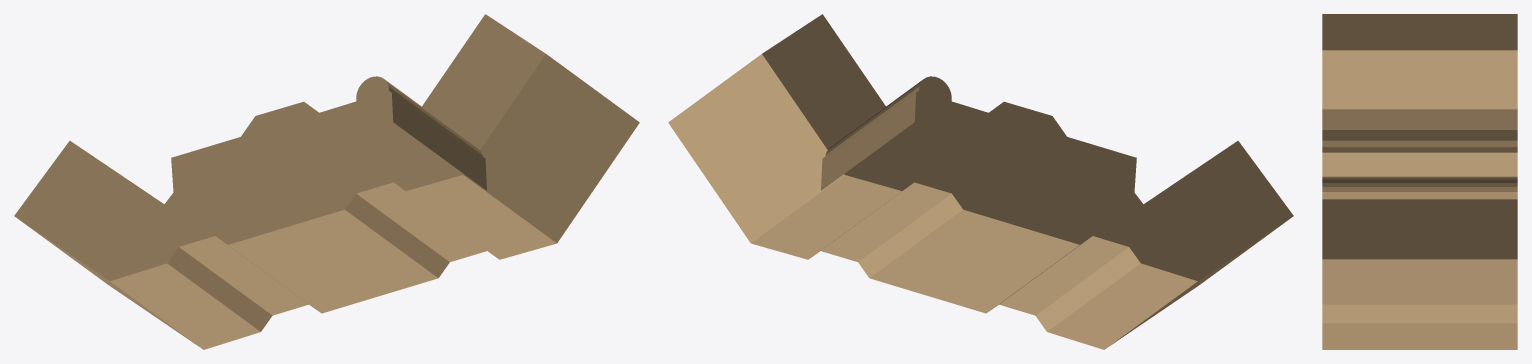
The picture shows the model from 3 angles, left to right: view 1: azimuth 30°, elevation 25°; view 2: azimuth 150°, elevation 25°; view 3: azimuth 270°, elevation 25°; orthographic projection. The views are drawn at different scales.
Parts seen in each view (by area): view 1: 0_0_3_2_0_1_2_1; view 2: 0_0_3_2_0_1_2_1; view 3: 0_0_3_2_0_1_2_1.
Boxes of the visible parts, <box> form: 0_0_3_2_0_1_2_1: <box>14,14,639,349</box>; 0_0_3_2_0_1_2_1: <box>668,14,1293,349</box>; 0_0_3_2_0_1_2_1: <box>1322,14,1517,349</box>.
Bounding box in the file's own units: 68.75 × 21.7 × 21.
